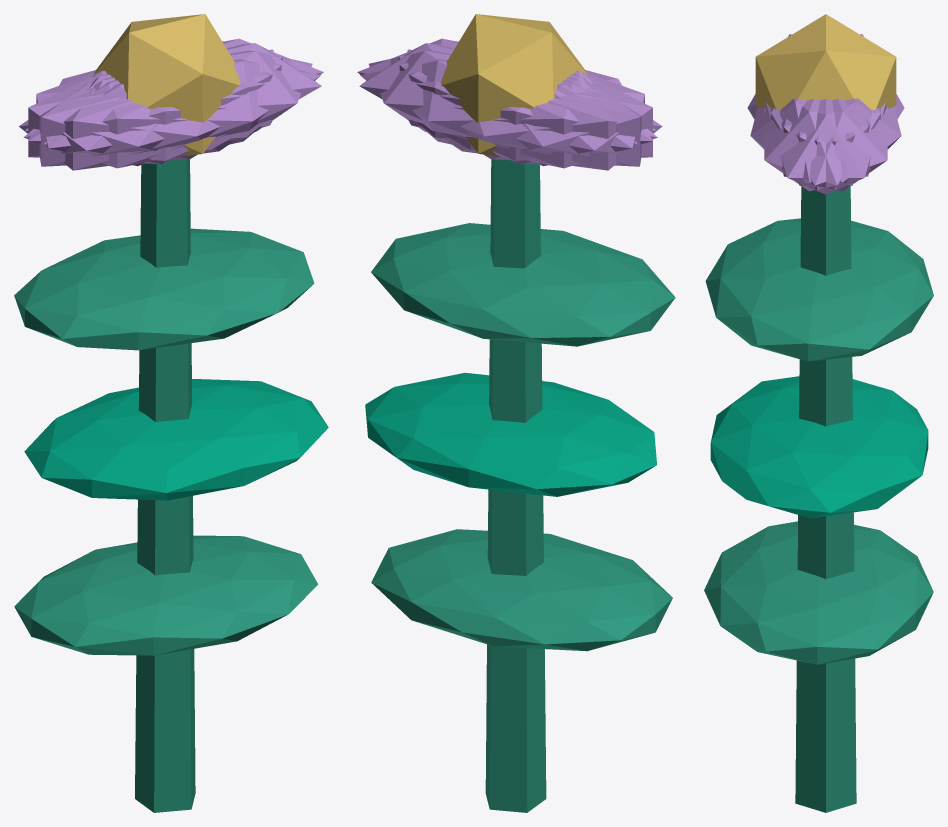
Rendered from ficus-exasperata.glb.
3 renders of one model, left to right at view 1: azimuth 30°, elevation 25°; view 2: azimuth 150°, elevation 25°; view 3: azimuth 270°, elevation 25°, orthographic.
Parts seen in each view (by area): view 1: leaf2, leaf0, leaf1, stem, center, petal1, petal6, petal2, petal5, petal7, petal0, petal4 (+2 smaller); view 2: leaf2, leaf0, leaf1, stem, center, petal8, petal3, petal7, petal4, petal2, petal0, petal5 (+2 smaller); view 3: leaf2, leaf1, leaf0, stem, center, petal0, petal5, petal4, petal1, petal8.
Boxes of the visible parts, bbox=[...] form: leaf2: bbox=[14, 228, 314, 350]; leaf0: bbox=[14, 535, 318, 655]; leaf1: bbox=[24, 379, 328, 500]; stem: bbox=[135, 159, 195, 812]; center: bbox=[94, 14, 240, 156]; petal1: bbox=[23, 59, 320, 168]; petal6: bbox=[19, 72, 233, 170]; petal2: bbox=[39, 49, 273, 166]; petal5: bbox=[44, 50, 312, 160]; petal7: bbox=[28, 56, 282, 164]; petal0: bbox=[93, 43, 321, 150]; petal4: bbox=[25, 38, 323, 141]; leaf2: bbox=[371, 223, 675, 346]; leaf0: bbox=[371, 529, 672, 651]; leaf1: bbox=[365, 372, 656, 496]; stem: bbox=[485, 159, 546, 812]; center: bbox=[440, 14, 587, 156]; petal8: bbox=[360, 59, 657, 168]; petal3: bbox=[447, 72, 662, 170]; petal7: bbox=[407, 49, 641, 166]; petal4: bbox=[368, 50, 637, 160]; petal2: bbox=[398, 56, 652, 164]; petal0: bbox=[359, 43, 587, 150]; petal5: bbox=[357, 38, 656, 141]; leaf2: bbox=[705, 218, 933, 361]; leaf1: bbox=[710, 376, 928, 518]; leaf0: bbox=[704, 521, 933, 664]; stem: bbox=[795, 186, 856, 812]; center: bbox=[755, 14, 896, 110]; petal0: bbox=[765, 99, 886, 194]; petal5: bbox=[764, 99, 880, 191]; petal4: bbox=[771, 99, 887, 191]; petal1: bbox=[750, 98, 870, 182]; petal8: bbox=[781, 98, 901, 182].
Size of the model in its own units: 0.1452 by 0.3683 by 0.1001.
